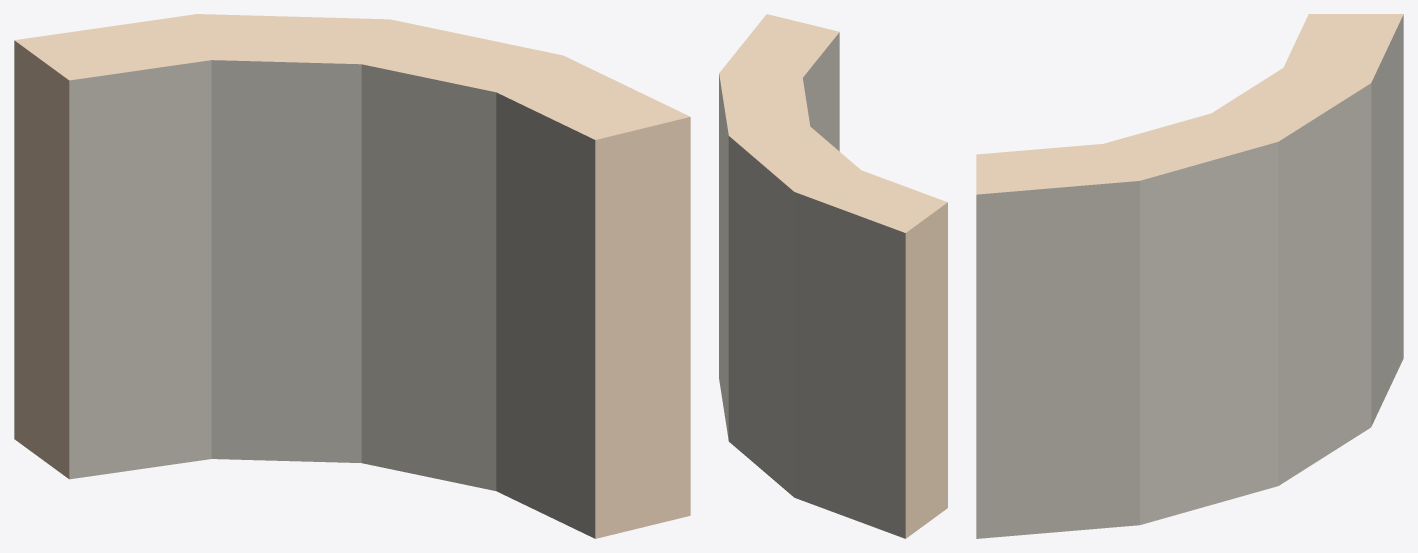
The model's file is Tiered_Retaining_Wall_Flat_Curve_1x1_Mid.glb.
3 renders of one model, left to right at view 1: azimuth 30°, elevation 25°; view 2: azimuth 150°, elevation 25°; view 3: azimuth 270°, elevation 25°, orthographic. The views are drawn at different scales.
Visible parts, largest first — view 1: Tiered_Retaining_Wall_Flat_Curve_1x1_Mid; view 2: Tiered_Retaining_Wall_Flat_Curve_1x1_Mid; view 3: Tiered_Retaining_Wall_Flat_Curve_1x1_Mid.
Boxes of the visible parts, box(x1,y1,x2,y2) form: Tiered_Retaining_Wall_Flat_Curve_1x1_Mid: box(14, 14, 690, 538); Tiered_Retaining_Wall_Flat_Curve_1x1_Mid: box(719, 14, 947, 538); Tiered_Retaining_Wall_Flat_Curve_1x1_Mid: box(976, 14, 1403, 538).
Size of the model in its own units: 112 by 100 by 113.
